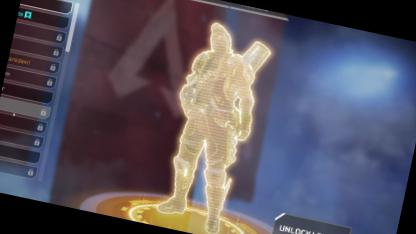Target: (156, 12, 278, 212)
